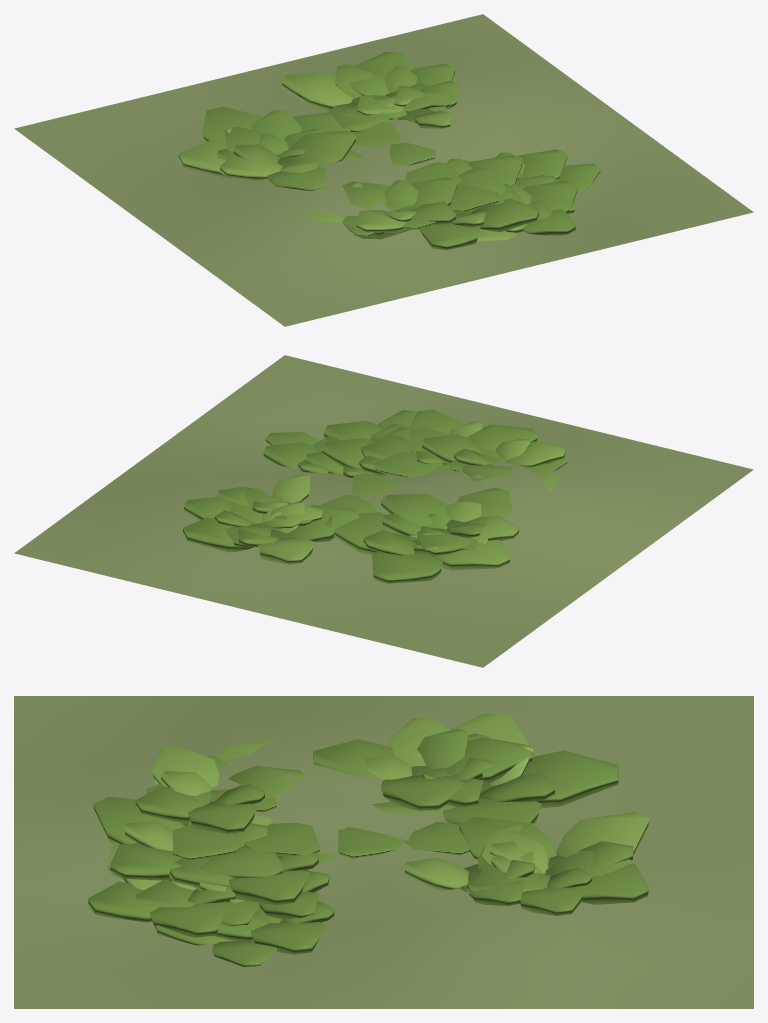
The model's file is master_grass_lush_09.glb.
3 renders of one model, top to bottom at view 1: azimuth 30°, elevation 25°; view 2: azimuth 150°, elevation 25°; view 3: azimuth 270°, elevation 25°, orthographic. The views are drawn at different scales.
Visible parts, largest first — view 1: master_grass_lush_09; view 2: master_grass_lush_09; view 3: master_grass_lush_09.
Boxes of the visible parts, x1,y1,x2,y2 form: master_grass_lush_09: [14, 14, 753, 326]; master_grass_lush_09: [14, 355, 753, 667]; master_grass_lush_09: [14, 696, 753, 1008].
Bounding box in the file's own units: 1.35 × 0.1337 × 1.35.
